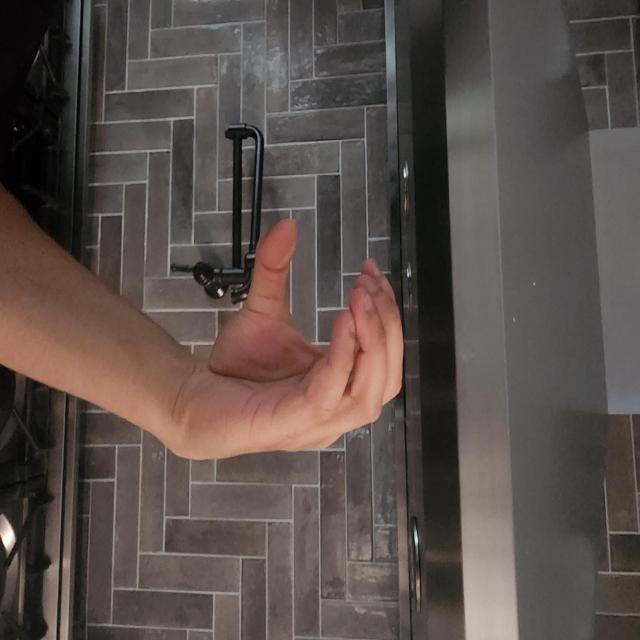C: (318, 310, 509, 640)
